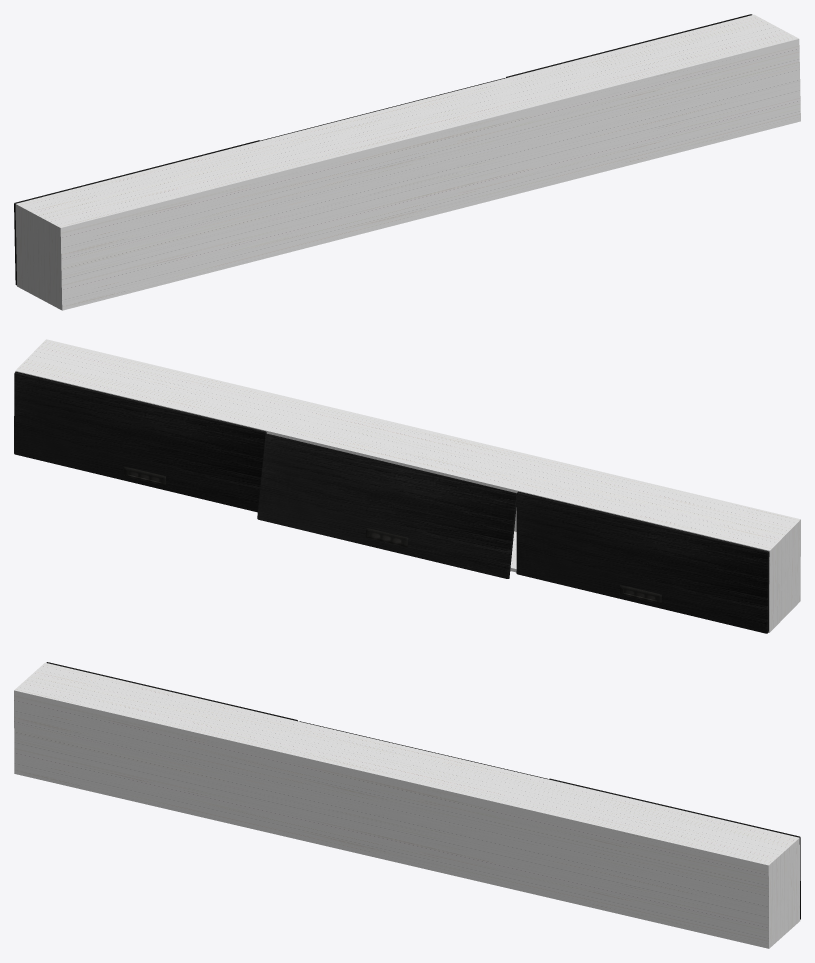
Rendered from Repisa2.obj.
3 views of the same model, one above another, from view 1: azimuth 30°, elevation 25°; view 2: azimuth 150°, elevation 25°; view 3: azimuth 330°, elevation 25° (orthographic).
Bounding box in the file's own units: 218 × 24.04 × 28.03.
Materials: 7 (7 with a texture image).
